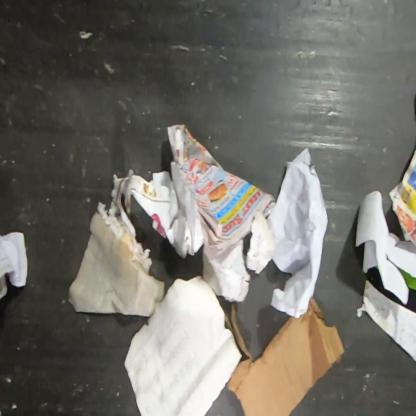cardboard: (223, 295, 346, 415), (354, 189, 415, 307)
